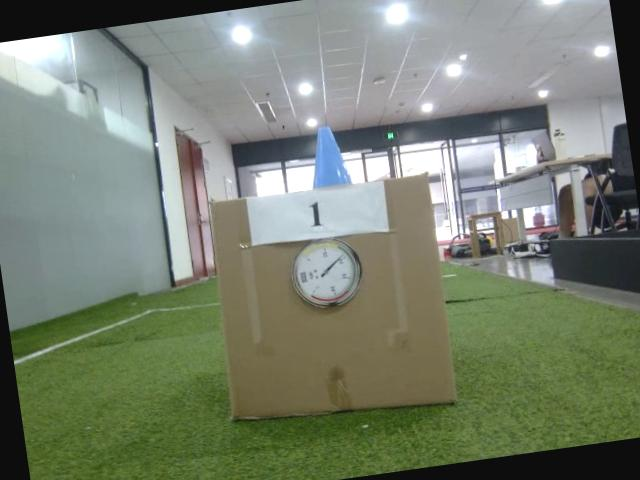1: (306, 198, 325, 232)
Dashboard: (286, 232, 369, 315)
blue_barrel: (301, 122, 354, 192)
ssi: (299, 270, 309, 284)
